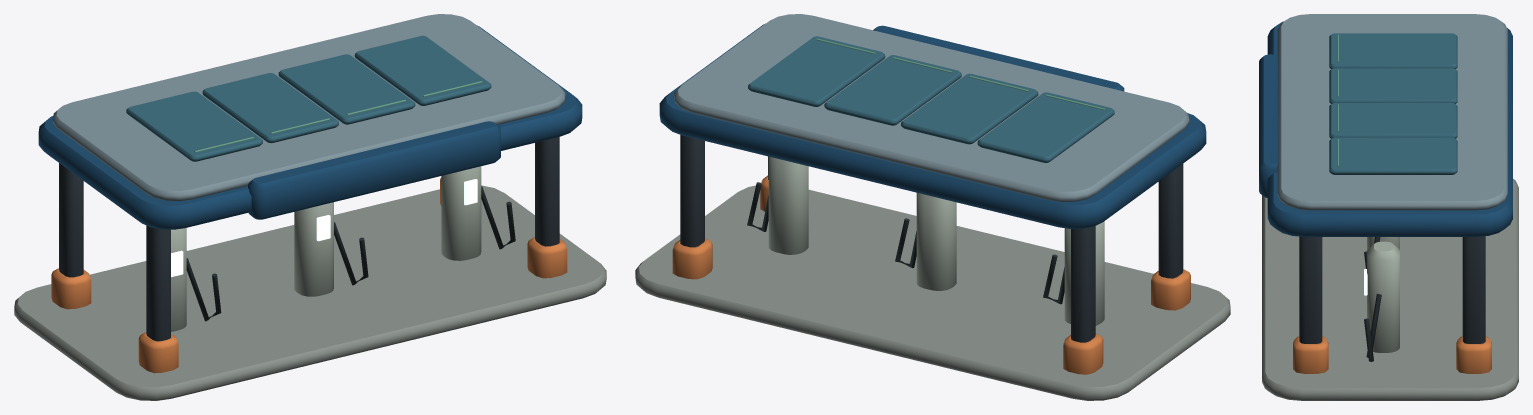
File: metro_charge.glb
3 views of the same model, side by side, from view 1: azimuth 30°, elevation 25°; view 2: azimuth 150°, elevation 25°; view 3: azimuth 270°, elevation 25° (orthographic). The views are drawn at different scales.
Visible parts, largest first — view 1: Charge; view 2: Charge; view 3: Charge.
Part boxes in pixels (box(x1,y1,x2,y2)): Charge: box(14, 14, 606, 400); Charge: box(635, 14, 1230, 400); Charge: box(1259, 14, 1518, 400).
Size of the model in its own units: 8.62 by 3.44 by 4.24.
